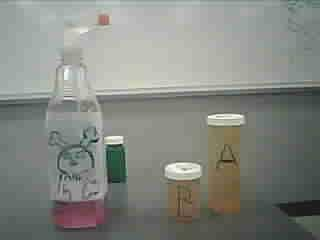Bottle A: (199, 104, 247, 222)
Bottle B: (160, 155, 206, 228)
Bottle C: (100, 130, 134, 189)
hazard: (50, 6, 108, 236)
